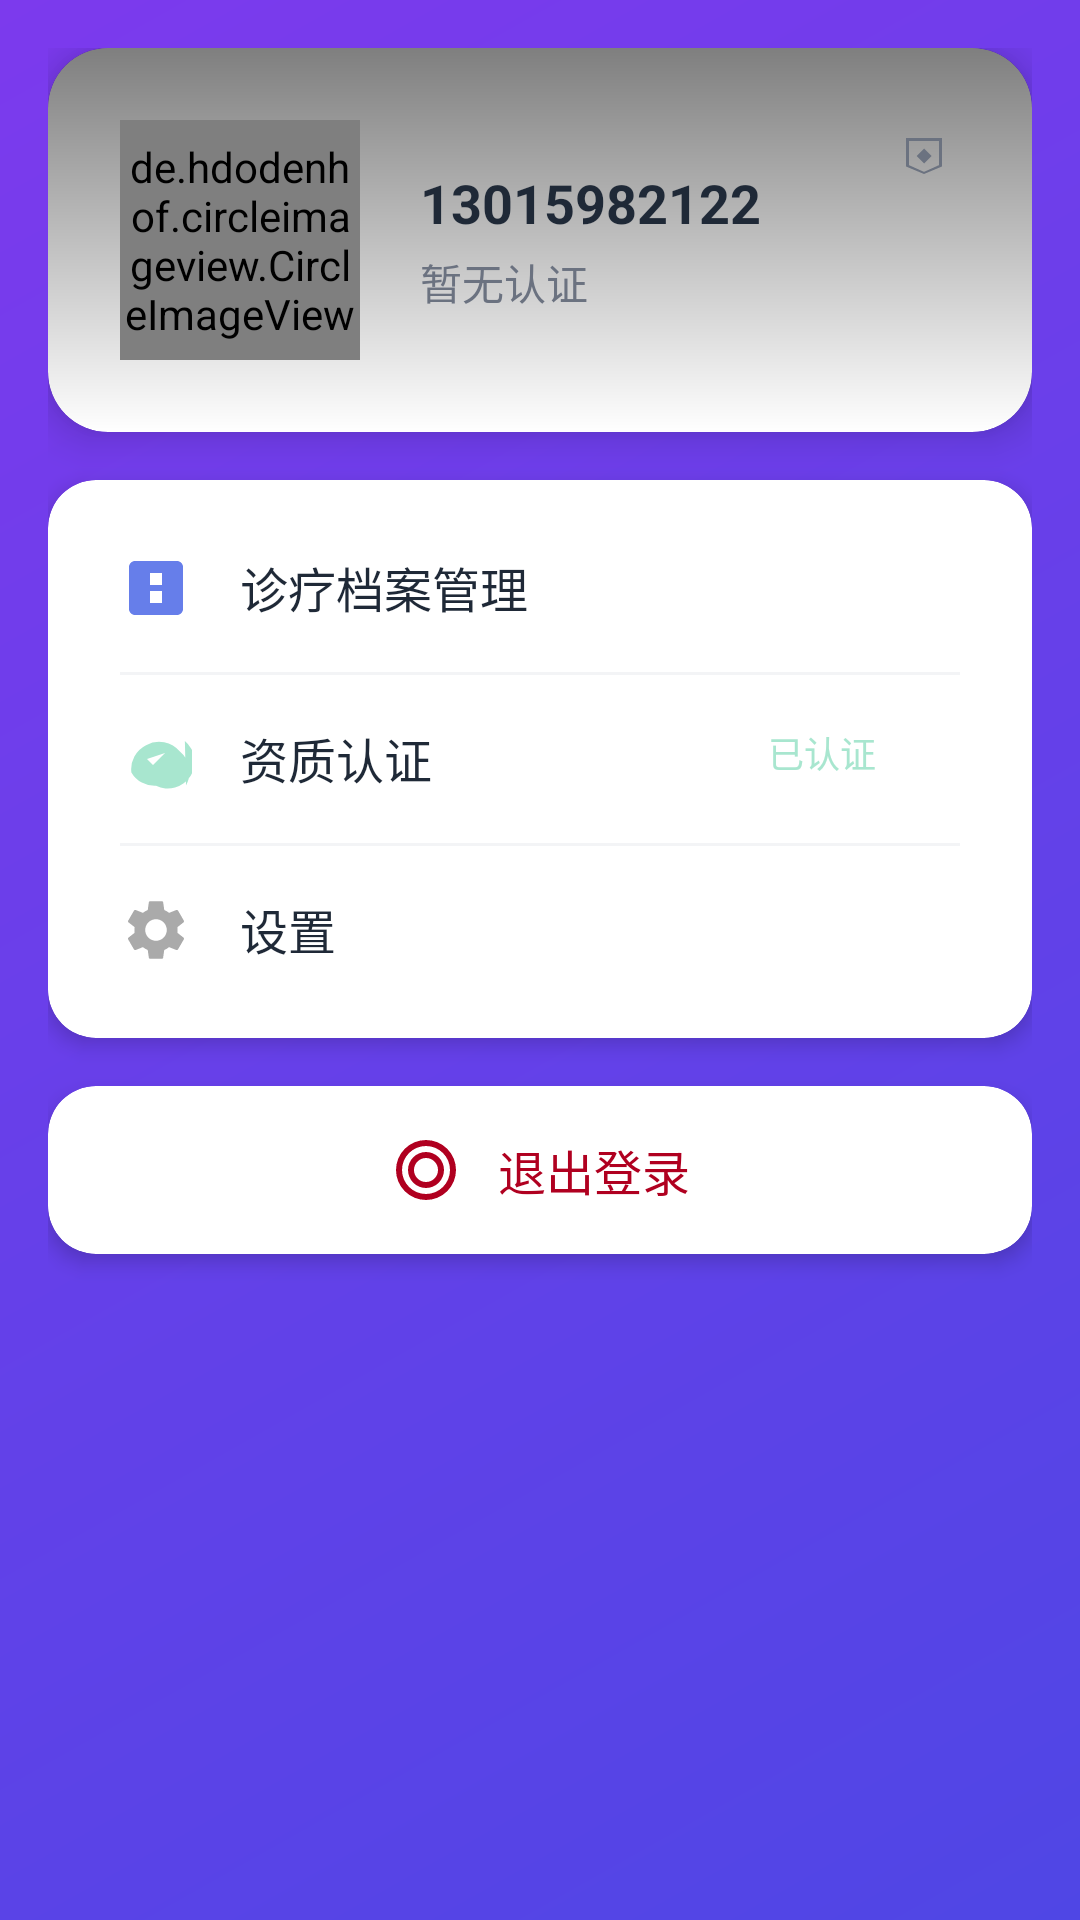

Where icons sit on this 1080 × 1920 app screen, as (x1, y1, x2, y2):
settings: (128, 901, 184, 959)
